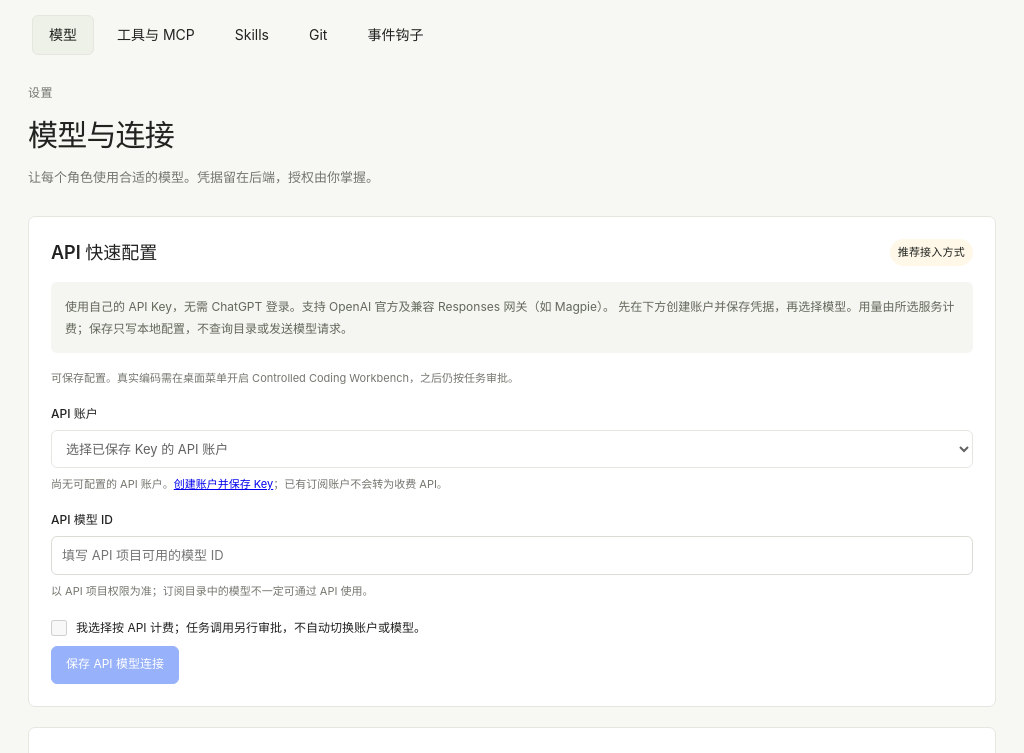
shows owned local-test eligibility separately from discovered external connections
This screenshot has width=1024, height=753.
Click the button "工具与 MCP" at (156, 35), box [100,15,212,55]
(page scrolled)
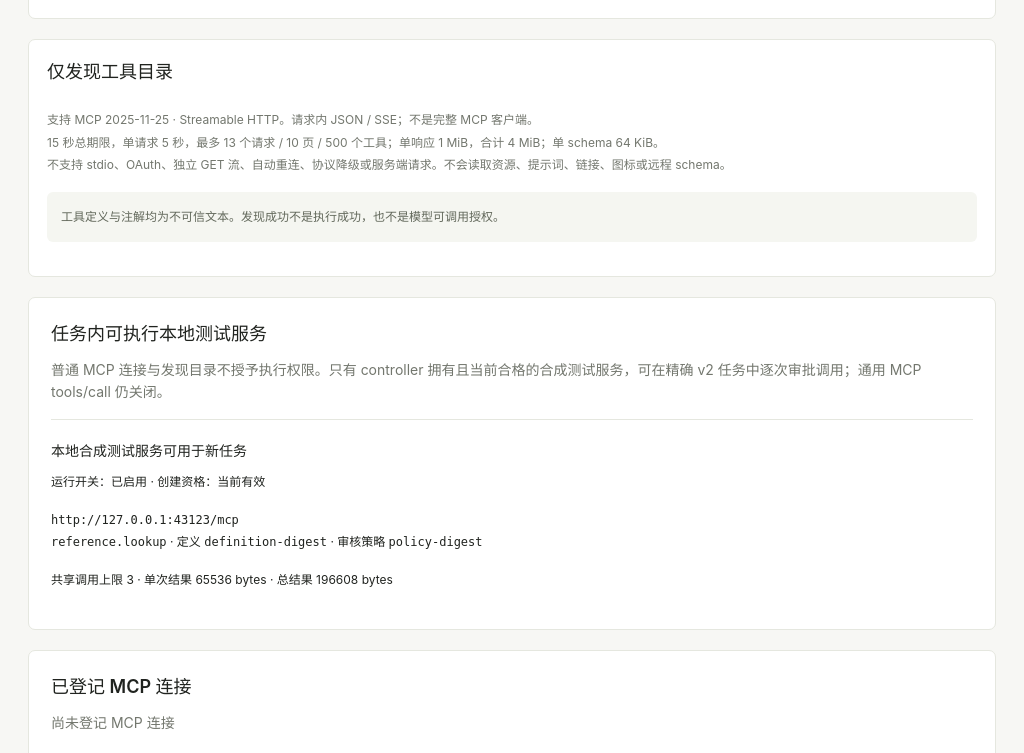
Expected: the heading "本地合成测试服务可用于新任务" is shown, [51,442,247,459]
Expected: the text "reference.lookup" is shown, [51,535,167,549]
Expected: the text "通用 MCP tools/call 仍关闭" is shown, [51,361,922,400]
